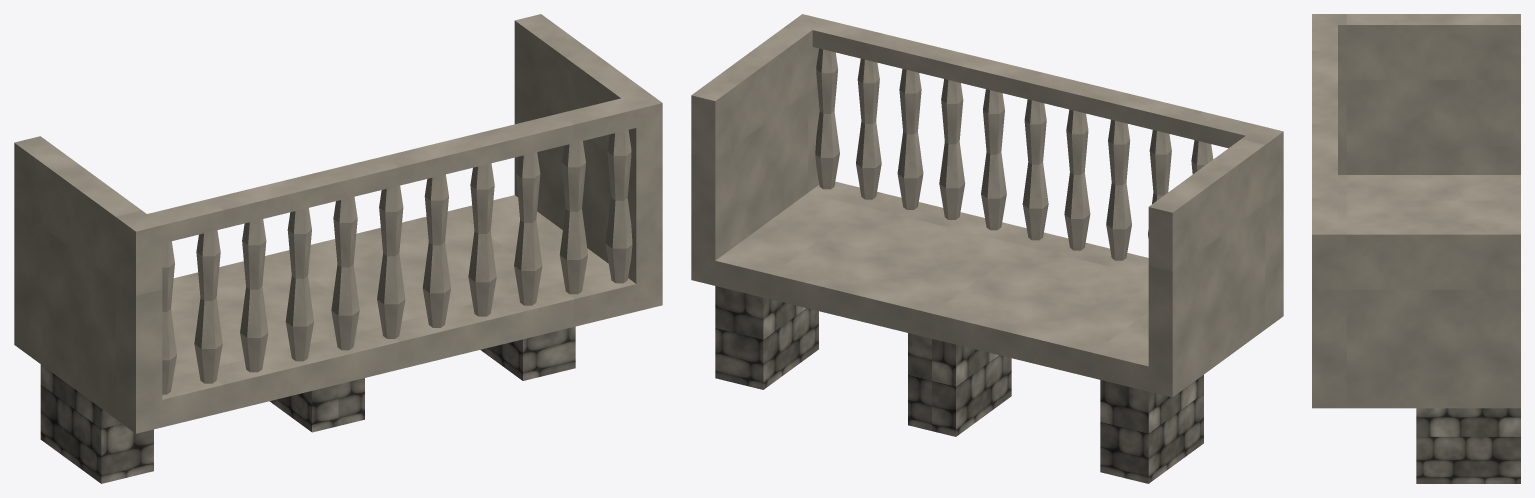
The model's file is Facade_Dwarf_Balcony_1.gltf.
3 renders of one model, left to right at view 1: azimuth 30°, elevation 25°; view 2: azimuth 150°, elevation 25°; view 3: azimuth 270°, elevation 25°, orthographic. The views are drawn at different scales.
Visible parts, largest first — view 1: Facade_Dwarf_Balcony_1; view 2: Facade_Dwarf_Balcony_1; view 3: Facade_Dwarf_Balcony_1.
Boxes of the visible parts, x1=… form: Facade_Dwarf_Balcony_1: x1=14, y1=14, x2=662, y2=483; Facade_Dwarf_Balcony_1: x1=691, y1=14, x2=1283, y2=483; Facade_Dwarf_Balcony_1: x1=1312, y1=14, x2=1520, y2=483.
Size of the model in its own units: 3 by 1.65 by 1.2.
2 materials, 2 textured.
